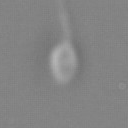normal: (45, 1, 84, 42)
